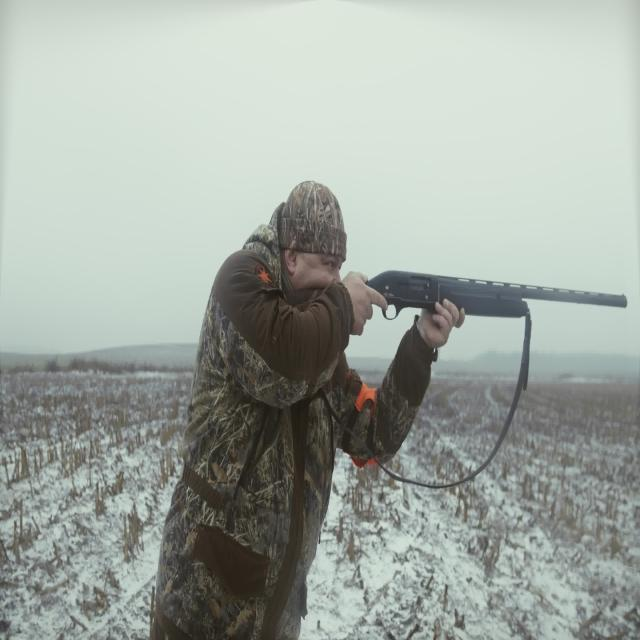Rifle: (275, 248, 539, 374)
